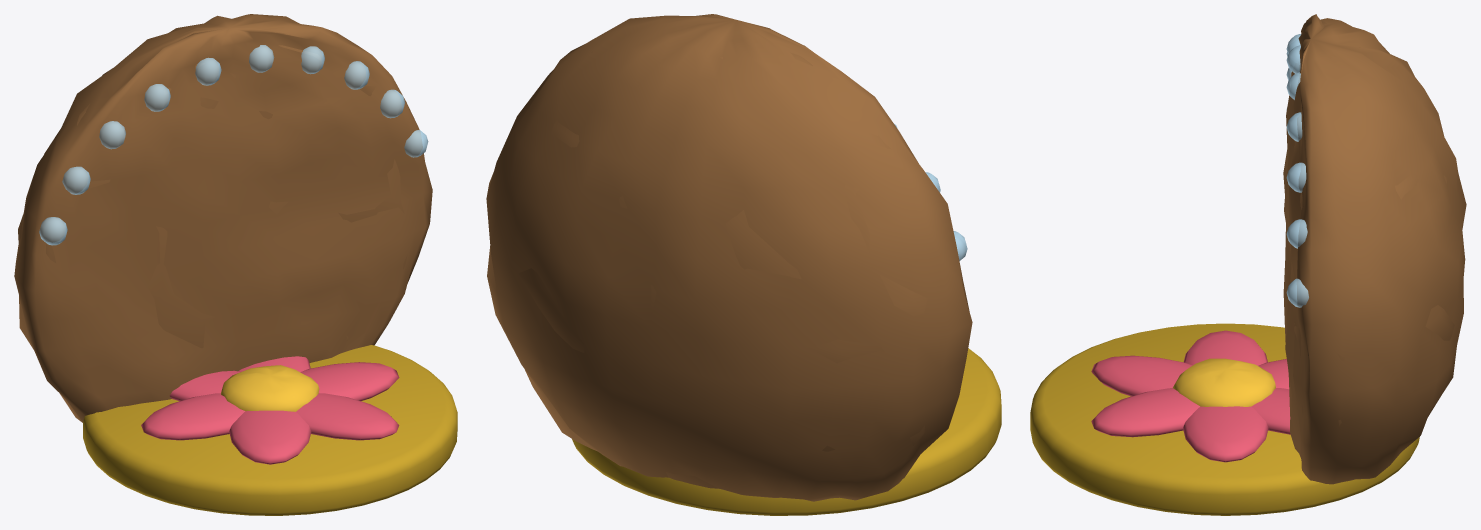
File: nest-queenthrone.glb
3 renders of one model, left to right at view 1: azimuth 30°, elevation 25°; view 2: azimuth 150°, elevation 25°; view 3: azimuth 270°, elevation 25°, orthographic. The views are drawn at different scales.
Visible parts, largest first — view 1: QueenThrone__Walnut, QueenThrone__Dais, QueenThrone__Petals, QueenThrone__Dewdrops, QueenThrone__Pollen; view 2: QueenThrone__Walnut, QueenThrone__Dais; view 3: QueenThrone__Walnut, QueenThrone__Dais, QueenThrone__Petals, QueenThrone__Pollen, QueenThrone__Dewdrops.
Part boxes in pixels (left/top/right/bottom): QueenThrone__Walnut: left=14, top=14, right=432, bottom=422; QueenThrone__Dais: left=83, top=345, right=457, bottom=515; QueenThrone__Petals: left=141, top=356, right=399, bottom=464; QueenThrone__Dewdrops: left=39, top=45, right=428, bottom=245; QueenThrone__Pollen: left=221, top=365, right=319, bottom=411; QueenThrone__Walnut: left=486, top=14, right=972, bottom=501; QueenThrone__Dais: left=572, top=348, right=1001, bottom=515; QueenThrone__Walnut: left=1283, top=14, right=1466, bottom=484; QueenThrone__Dais: left=1030, top=323, right=1419, bottom=515; QueenThrone__Petals: left=1091, top=330, right=1290, bottom=462; QueenThrone__Pollen: left=1173, top=358, right=1275, bottom=406; QueenThrone__Dewdrops: left=1286, top=34, right=1308, bottom=307.
Bounding box in the file's own units: 22.51 × 20.35 × 20.09.
